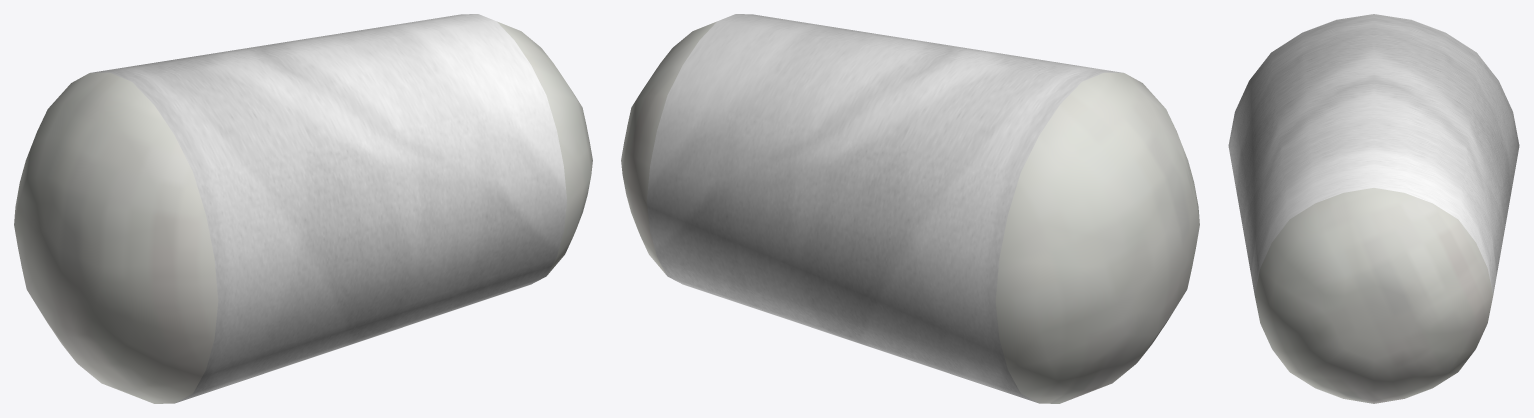
Rendered from human3.obj.
3 renders of one model, left to right at view 1: azimuth 30°, elevation 25°; view 2: azimuth 150°, elevation 25°; view 3: azimuth 270°, elevation 25°, orthographic. The views are drawn at different scales.
Parts seen in each view (by area): view 1: ColobotMesh_1_ColobotMesh_; view 2: ColobotMesh_1_ColobotMesh_; view 3: ColobotMesh_1_ColobotMesh_.
Part boxes in pixels (box(x1,y1,x2,y2)): ColobotMesh_1_ColobotMesh_: box(14, 14, 592, 403); ColobotMesh_1_ColobotMesh_: box(621, 14, 1199, 403); ColobotMesh_1_ColobotMesh_: box(1228, 14, 1519, 403).
Size of the model in its own units: 1.74 by 1 by 1.
